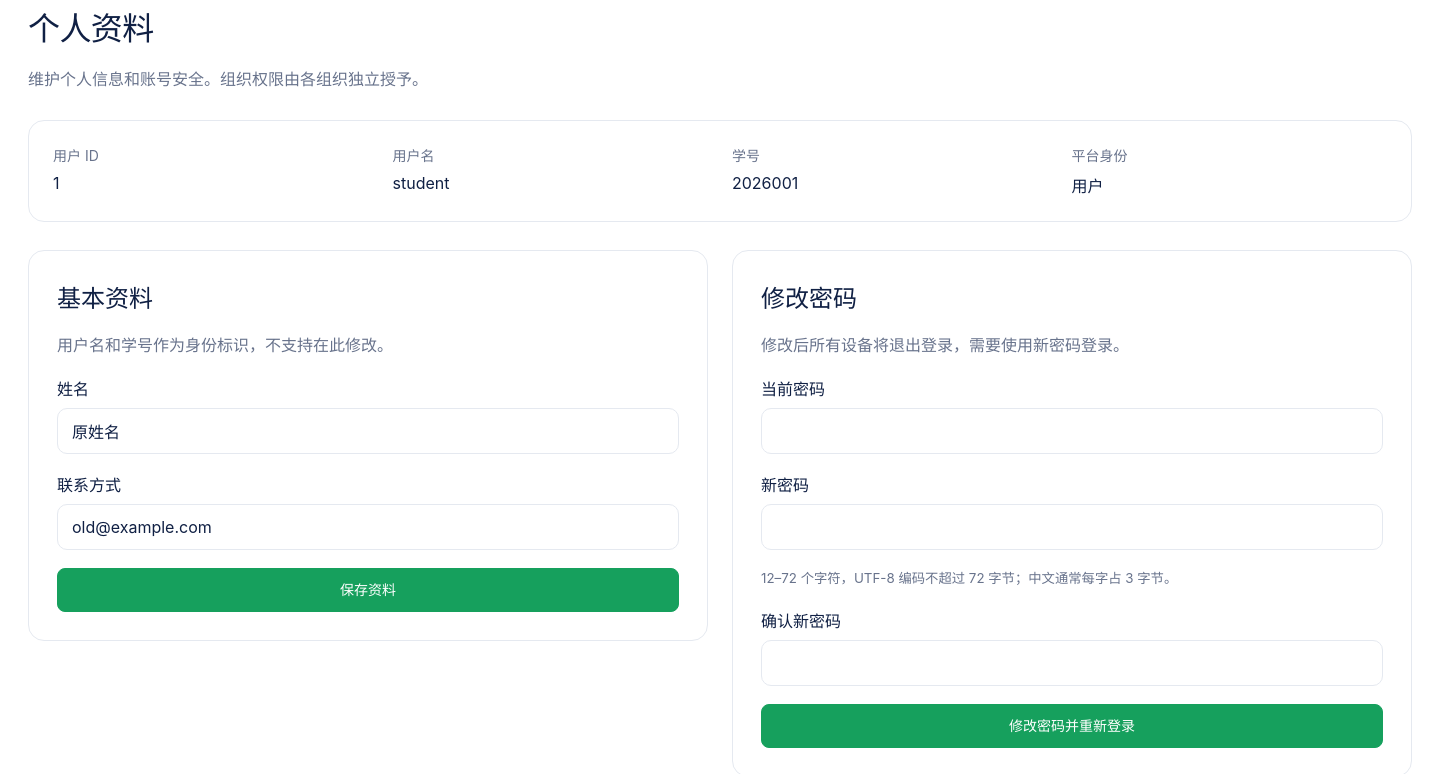
rejects mismatched confirmation without making a request
The image size is (1440, 774).
In the password field named "currentPassword": (1072, 431) 761,408 -> 1383,454, type "old-password-123"
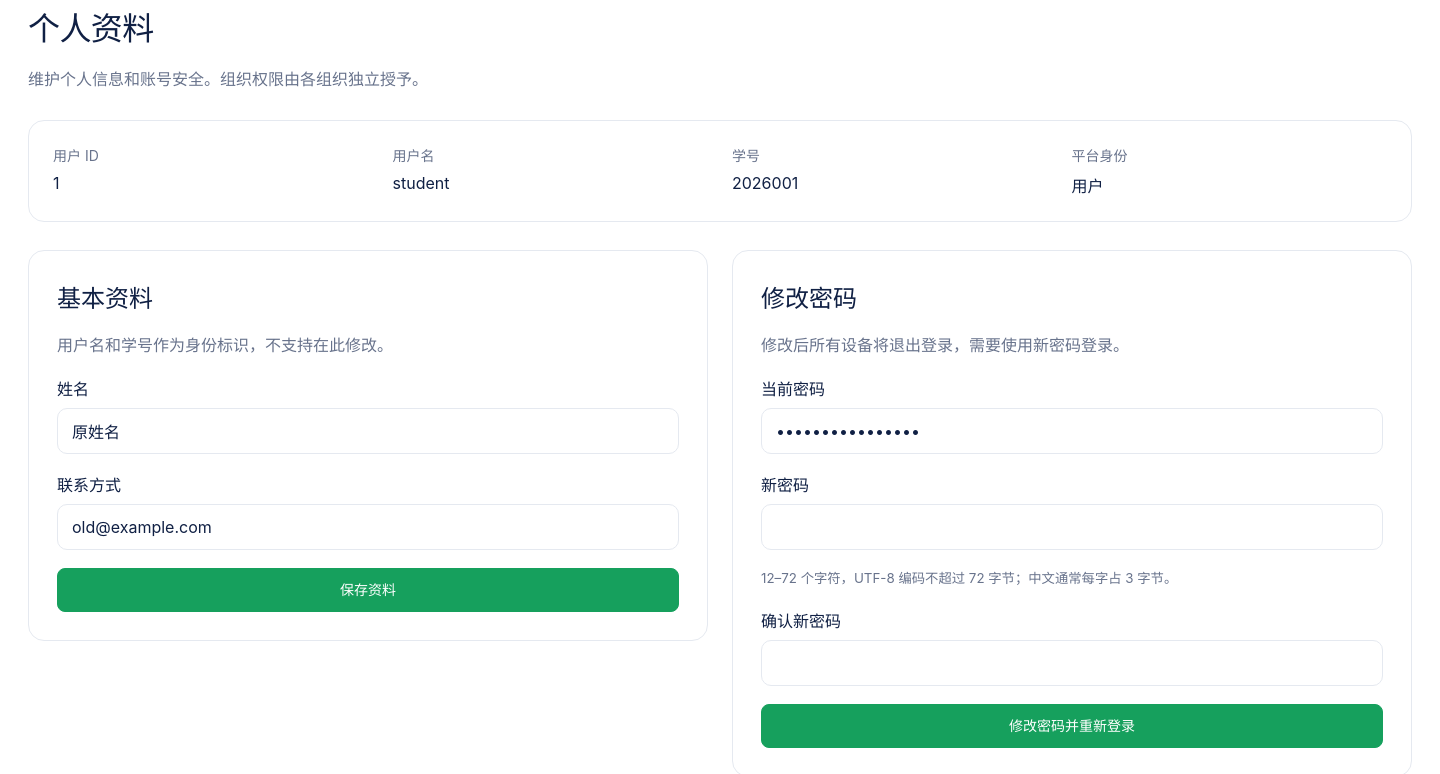
In the password field named "newPassword": (1072, 527) 761,504 -> 1383,550, type "new-password-123"
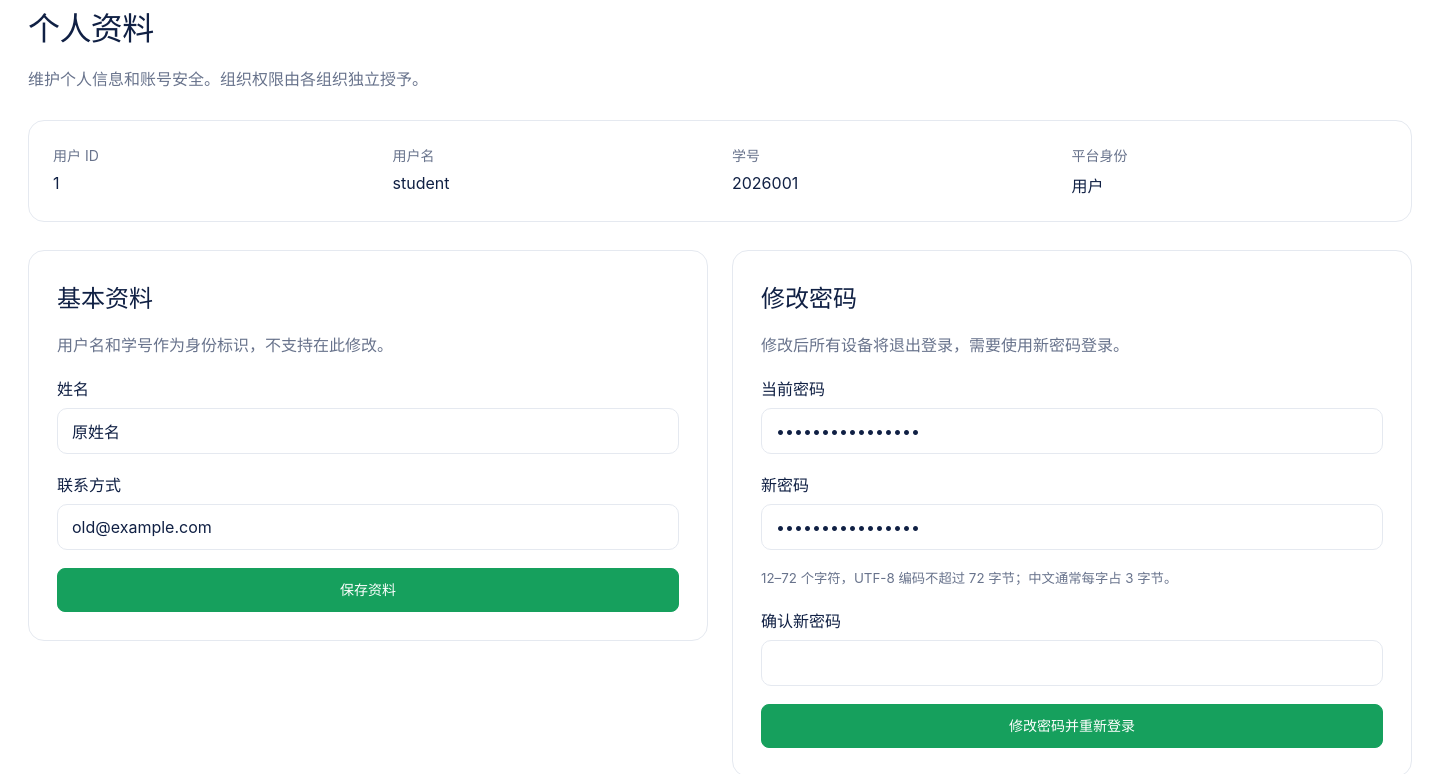
In the password field named "confirmPassword": (1072, 663) 761,640 -> 1383,686, type "new-password-123"
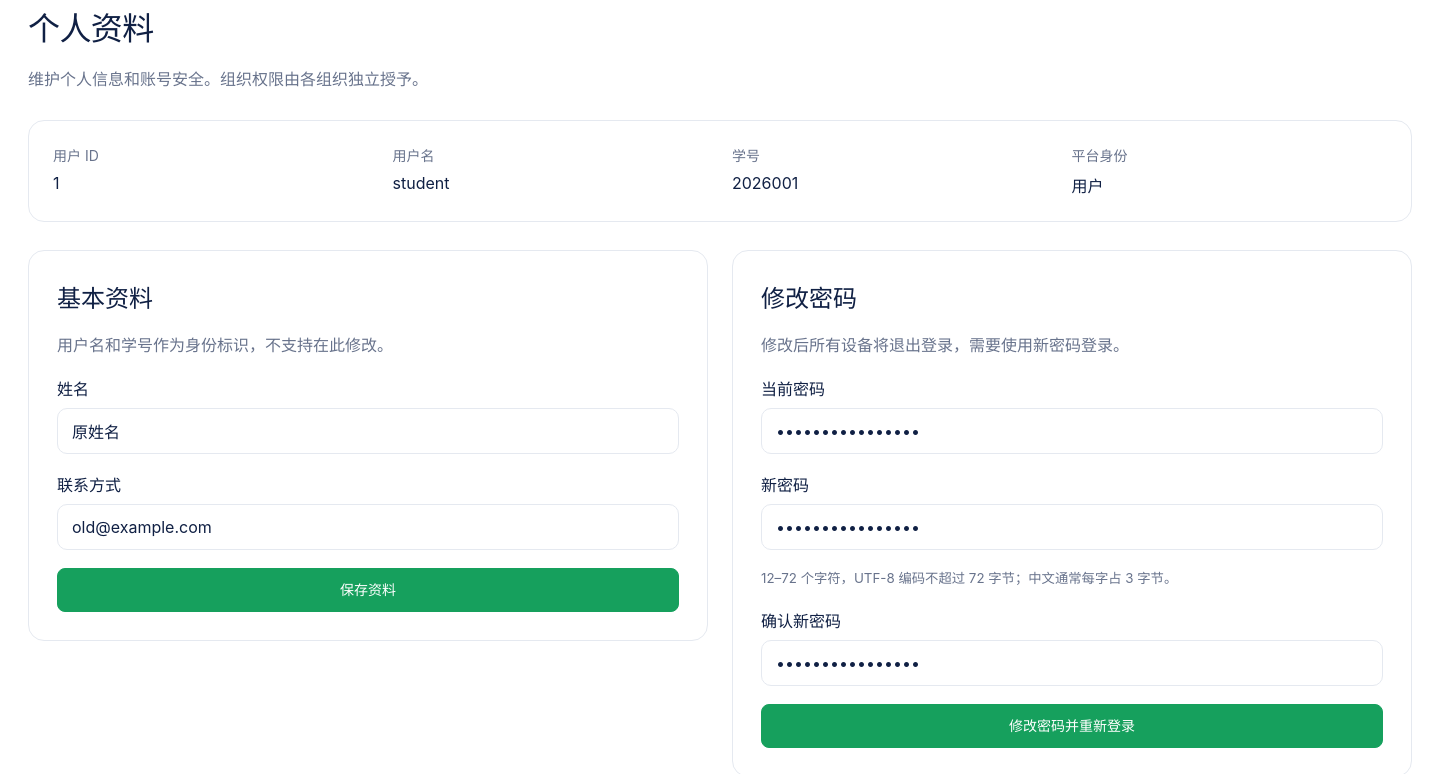
In the password field named "confirmPassword": (1072, 663) 761,640 -> 1383,686, type "different"
(page scrolled)
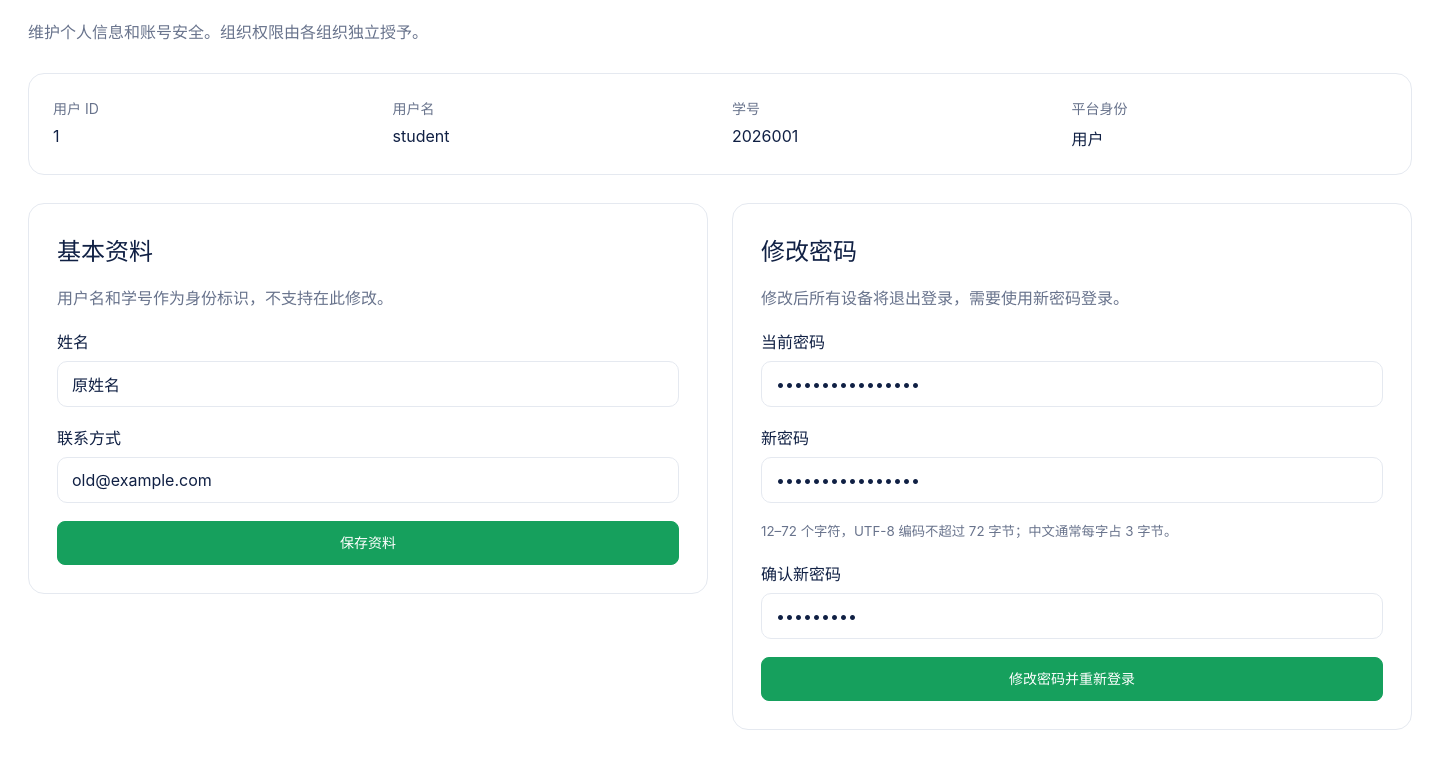
Submit the form with test id "password-form", box 732,203 -> 1412,730
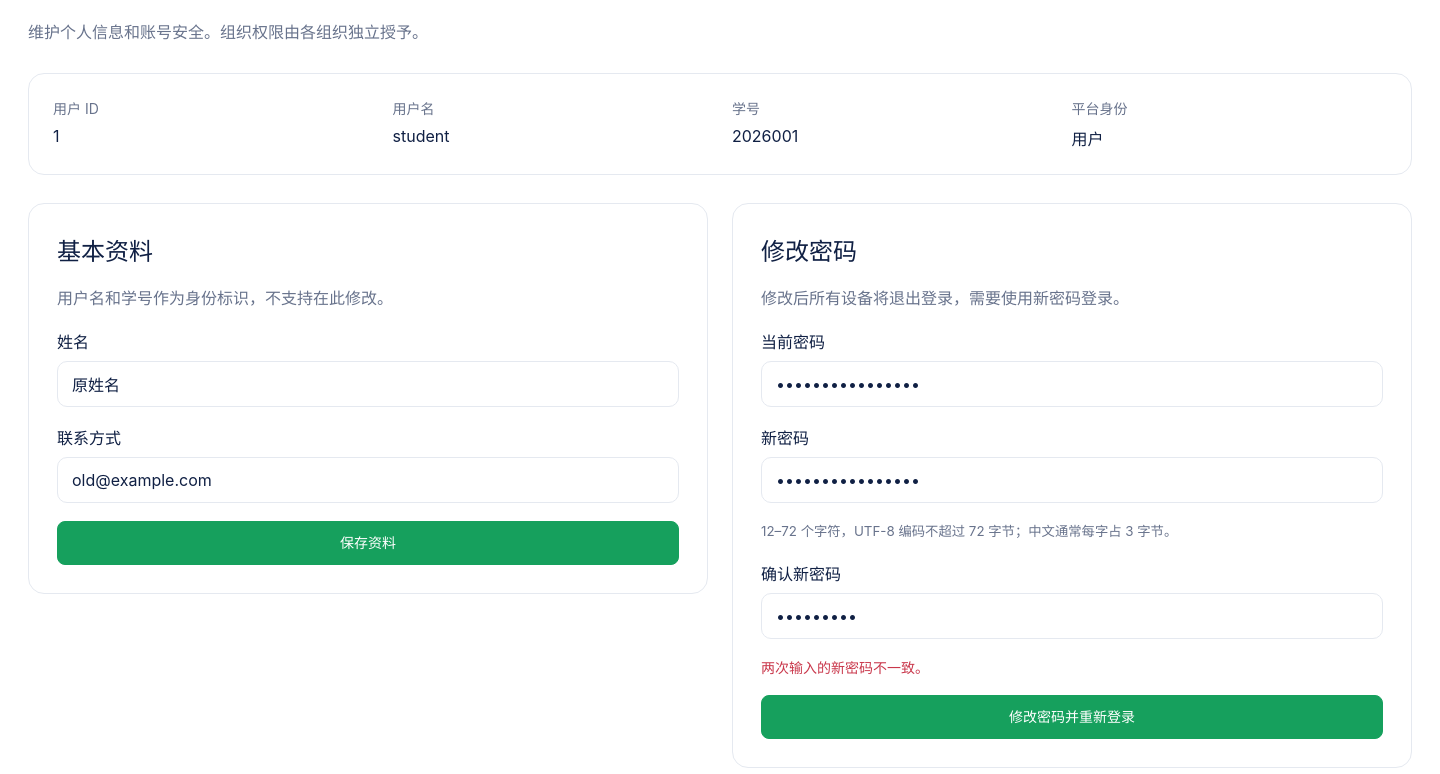
Expected: the text "两次输入的新密码不一致" is shown, 761,659 -> 929,676
